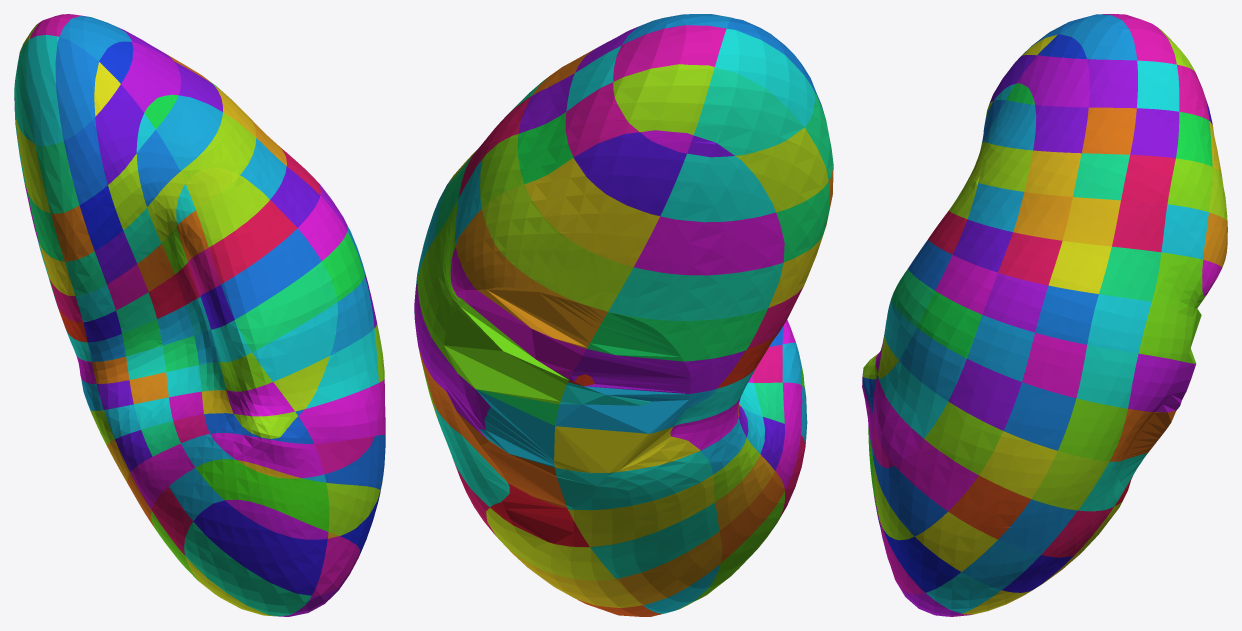
Rendered from kidney-female-left-vu.glb.
3 views of the same model, side by side, from view 1: azimuth 30°, elevation 25°; view 2: azimuth 150°, elevation 25°; view 3: azimuth 270°, elevation 25° (orthographic). The views are drawn at different scales.
Parts seen in each view (by area): view 1: D-14-I, E-13-I, C-14-I, G-8-II, G-7-II, G-6-II, G-9-II, D-1-I, C-1-I, F-11-II, F-3-II, E-2-I (+82 smaller); view 2: A-4-II, B-7-II, A-3-I, A-5-II, A-3-II, A-4-I, A-5-I, B-1-I, A-2-II, A-2-I, B-1-II, A-9-I (+53 smaller); view 3: D-9-II, E-10-II, E-9-II, D-10-II, E-2-II, C-9-II, E-11-II, B-8-II, D-8-II, C-8-II, E-8-II, D-11-II (+58 smaller).
Boxes of the visible parts, bbox=[...] form: D-14-I: bbox=[193, 500, 327, 595]; E-13-I: bbox=[196, 459, 329, 531]; C-14-I: bbox=[184, 521, 311, 616]; G-8-II: bbox=[235, 261, 337, 352]; G-7-II: bbox=[221, 228, 321, 319]; G-6-II: bbox=[209, 200, 297, 283]; G-9-II: bbox=[252, 302, 337, 381]; D-1-I: bbox=[55, 37, 98, 140]; C-1-I: bbox=[26, 35, 63, 145]; F-11-II: bbox=[298, 383, 378, 443]; F-3-II: bbox=[156, 95, 222, 171]; E-2-I: bbox=[95, 84, 143, 184]; A-4-II: bbox=[482, 184, 633, 311]; B-7-II: bbox=[417, 238, 567, 404]; A-3-I: bbox=[634, 212, 784, 275]; A-5-II: bbox=[456, 209, 607, 348]; A-3-II: bbox=[524, 158, 659, 266]; A-4-I: bbox=[608, 262, 783, 320]; A-5-I: bbox=[587, 308, 767, 361]; B-1-I: bbox=[693, 67, 804, 155]; A-2-II: bbox=[573, 132, 686, 215]; A-2-I: bbox=[660, 153, 775, 222]; B-1-II: bbox=[613, 64, 714, 135]; A-9-I: bbox=[555, 451, 712, 510]; D-9-II: bbox=[1003, 382, 1076, 450]; E-10-II: bbox=[924, 401, 1003, 474]; E-9-II: bbox=[948, 359, 1021, 430]; D-10-II: bbox=[979, 431, 1057, 498]; E-2-II: bbox=[1016, 55, 1089, 107]; C-9-II: bbox=[1058, 398, 1127, 461]; E-11-II: bbox=[895, 439, 978, 511]; B-8-II: bbox=[1128, 353, 1195, 412]; D-8-II: bbox=[1022, 332, 1087, 398]; C-8-II: bbox=[1076, 345, 1138, 408]; E-8-II: bbox=[967, 315, 1034, 381]; D-11-II: bbox=[948, 475, 1030, 539].
Size of the model in its own units: 0.0718 by 0.1239 by 0.077.
